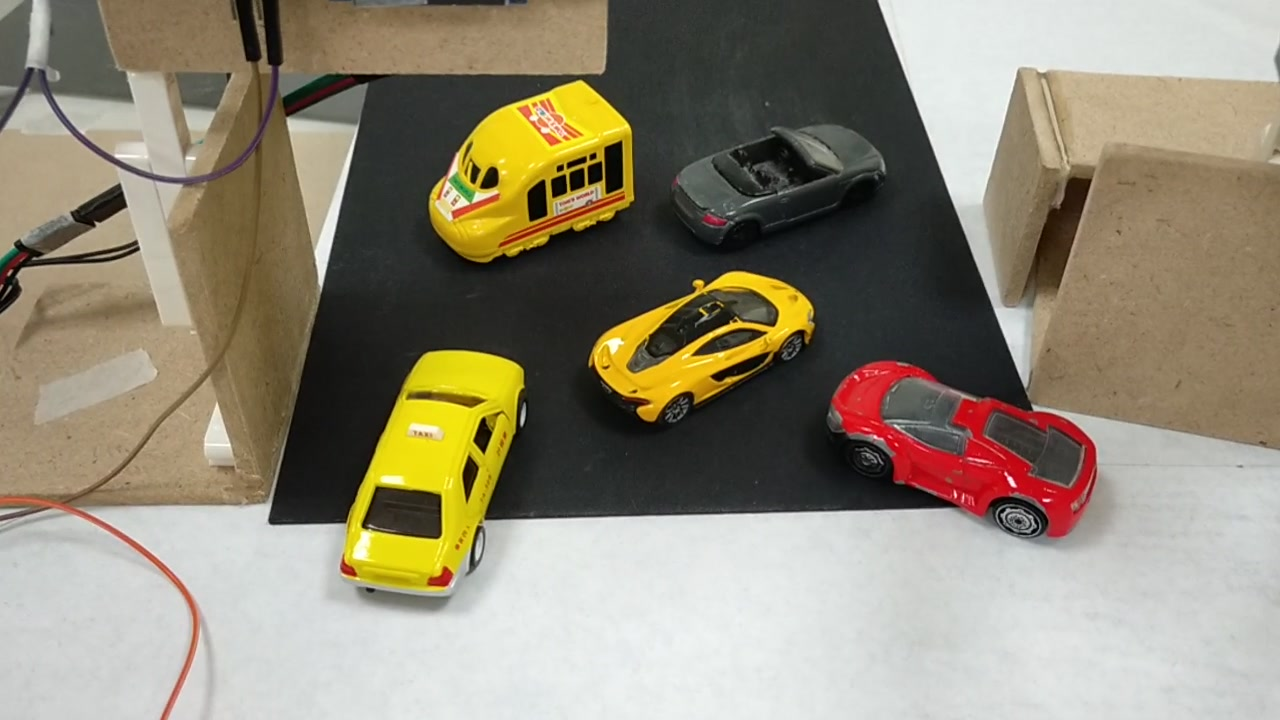car: (830, 357, 1101, 549), (339, 361, 526, 596), (588, 268, 814, 421), (671, 116, 886, 233)
